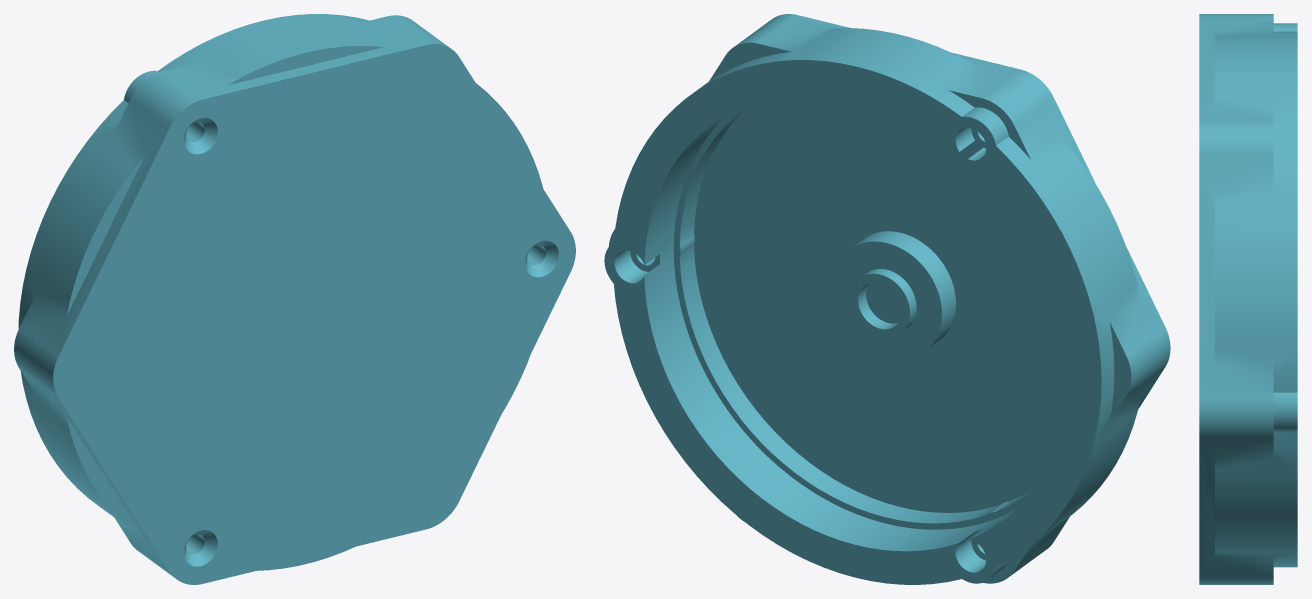
Rendered from Cap_rounded_hexagon.glb.
The picture shows the model from 3 angles, left to right: view 1: azimuth 30°, elevation 25°; view 2: azimuth 150°, elevation 25°; view 3: azimuth 270°, elevation 25°; orthographic projection. The views are drawn at different scales.
Parts seen in each view (by area): view 1: Cap_rounded_hexagon_0; view 2: Cap_rounded_hexagon_0; view 3: Cap_rounded_hexagon_0.
Boxes of the visible parts, box(x1,y1,x2,y2) form: Cap_rounded_hexagon_0: box(14, 14, 575, 584); Cap_rounded_hexagon_0: box(604, 14, 1170, 584); Cap_rounded_hexagon_0: box(1199, 14, 1297, 584).
Size of the model in its own units: 61.6 by 57.6 by 10.6.
